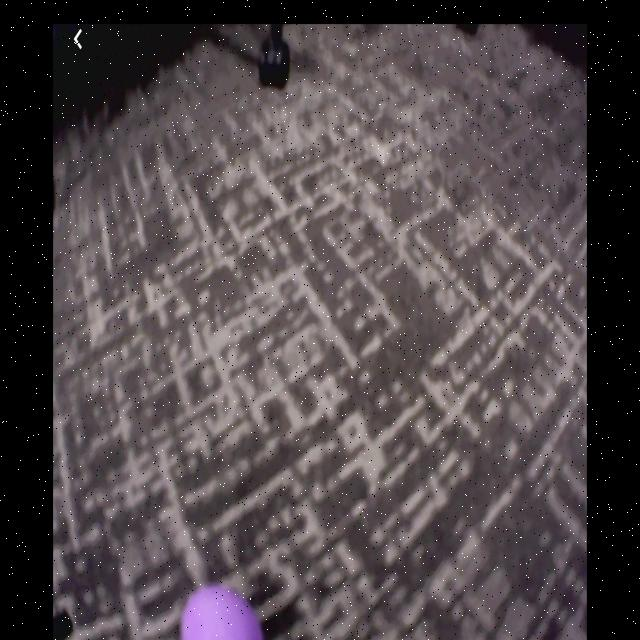ball: (184, 587, 267, 640)
